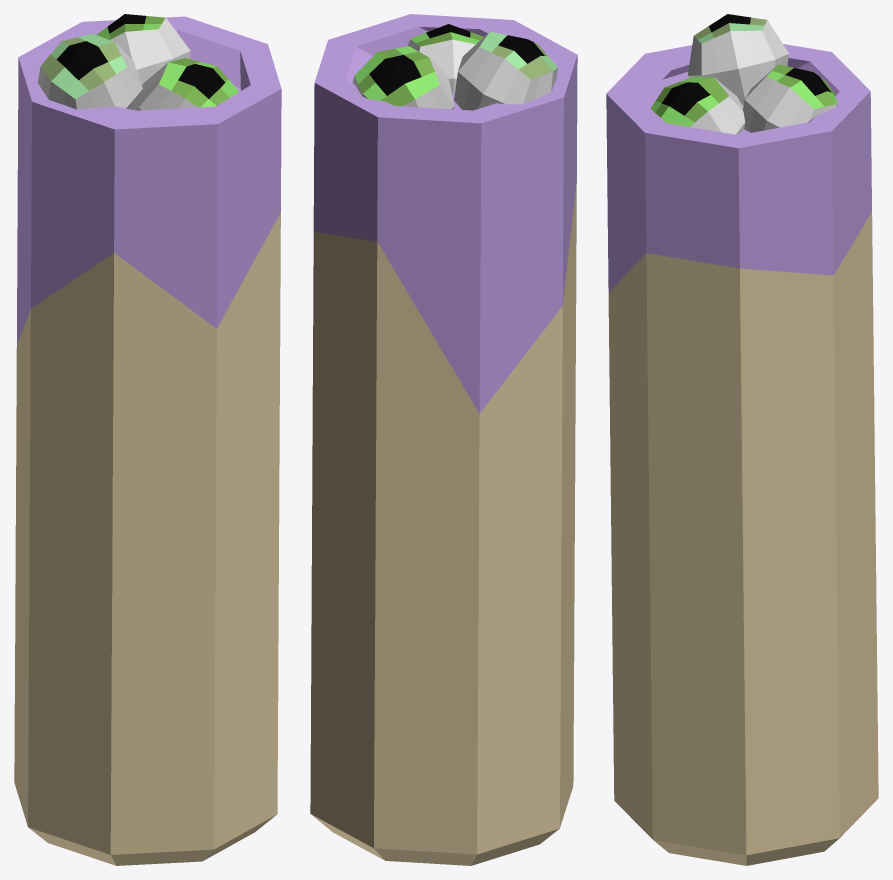
The model's file is rollo.glb.
3 views of the same model, side by side, from view 1: azimuth 30°, elevation 25°; view 2: azimuth 150°, elevation 25°; view 3: azimuth 270°, elevation 25° (orthographic). The views are drawn at different scales.
Visible parts, largest first — view 1: Cube.051; view 2: Cube.051; view 3: Cube.051.
Part boxes in pixels (left/top/right/bottom): Cube.051: left=14, top=14, right=281, bottom=865; Cube.051: left=310, top=14, right=577, bottom=865; Cube.051: left=606, top=14, right=878, bottom=865.
Bounding box in the file's own units: 0.0487 × 0.1565 × 0.0501.
